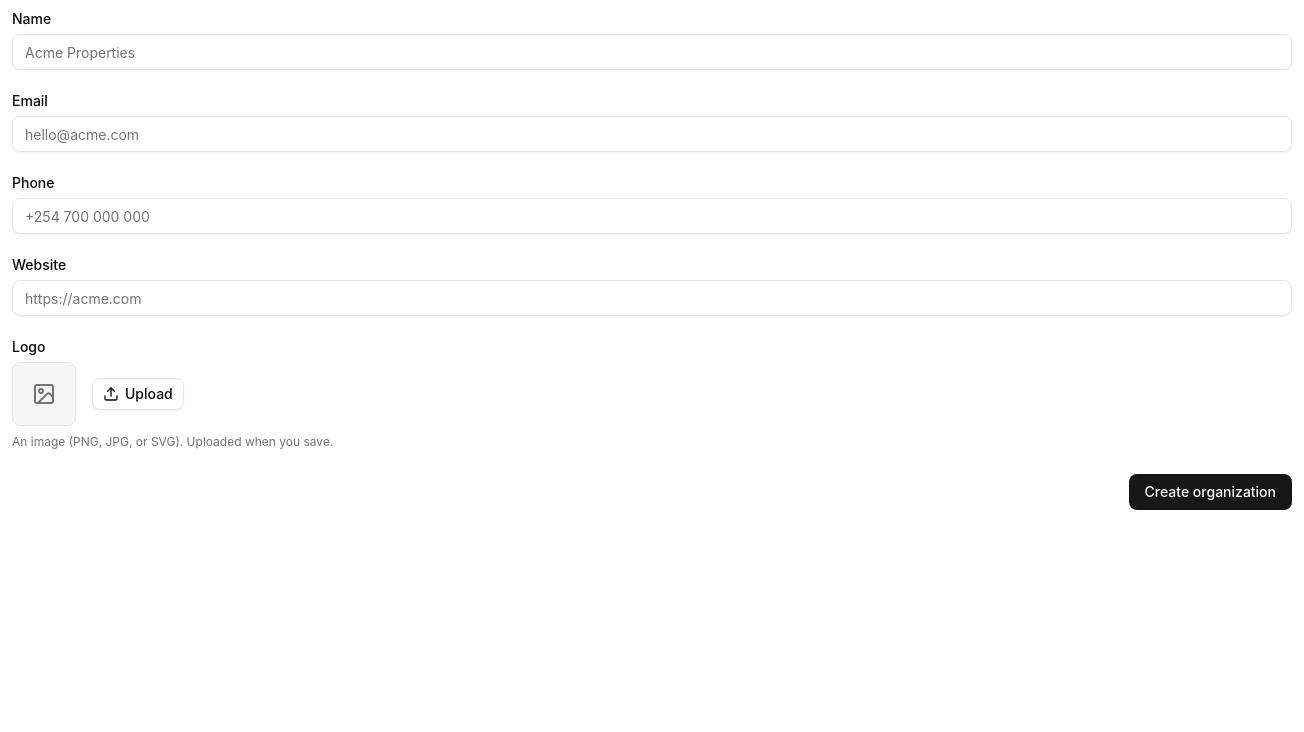
Test: OrganizationForm › blocks submit and shows a validation error for a malformed email
Type "Birchwood Group" into the field labelled "Name".
click(652, 52); type("Birchwood Group")  # box [12, 34, 1292, 70]
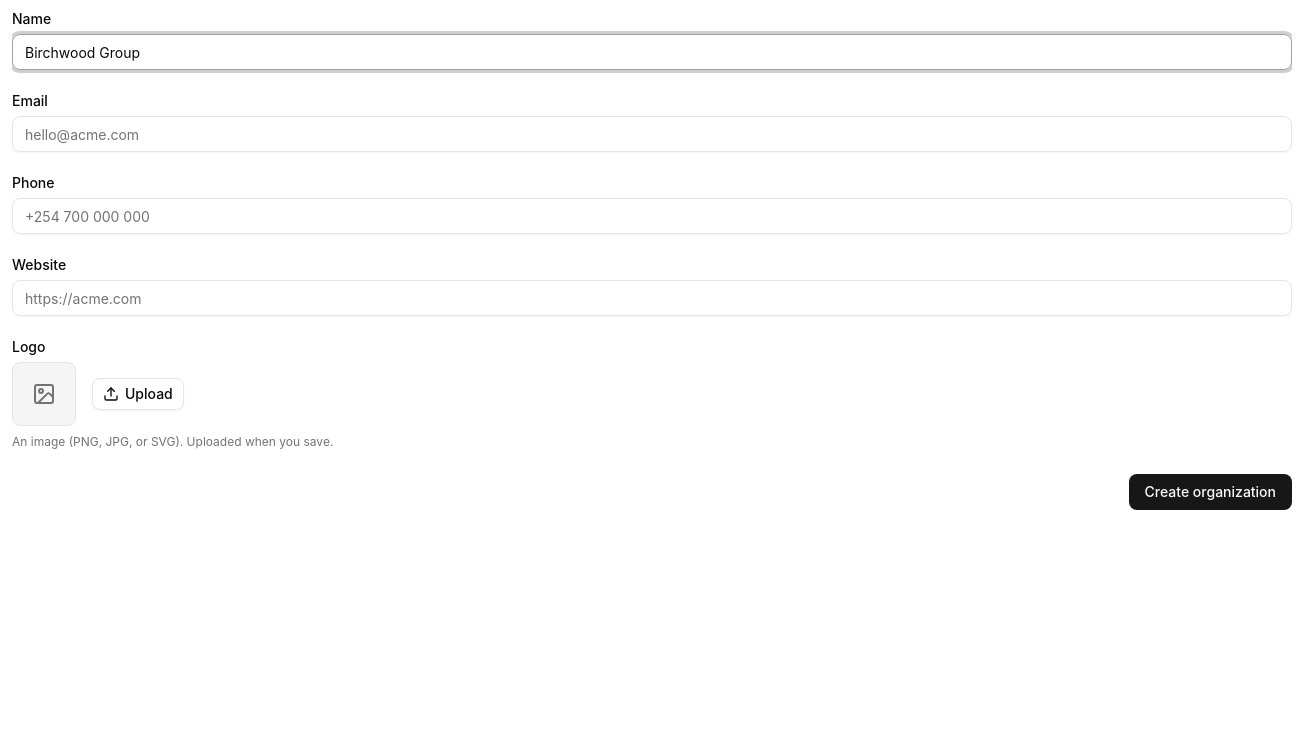
Type "not-an-email" into the field labelled "Email".
click(652, 134); type("not-an-email")  # box [12, 116, 1292, 152]
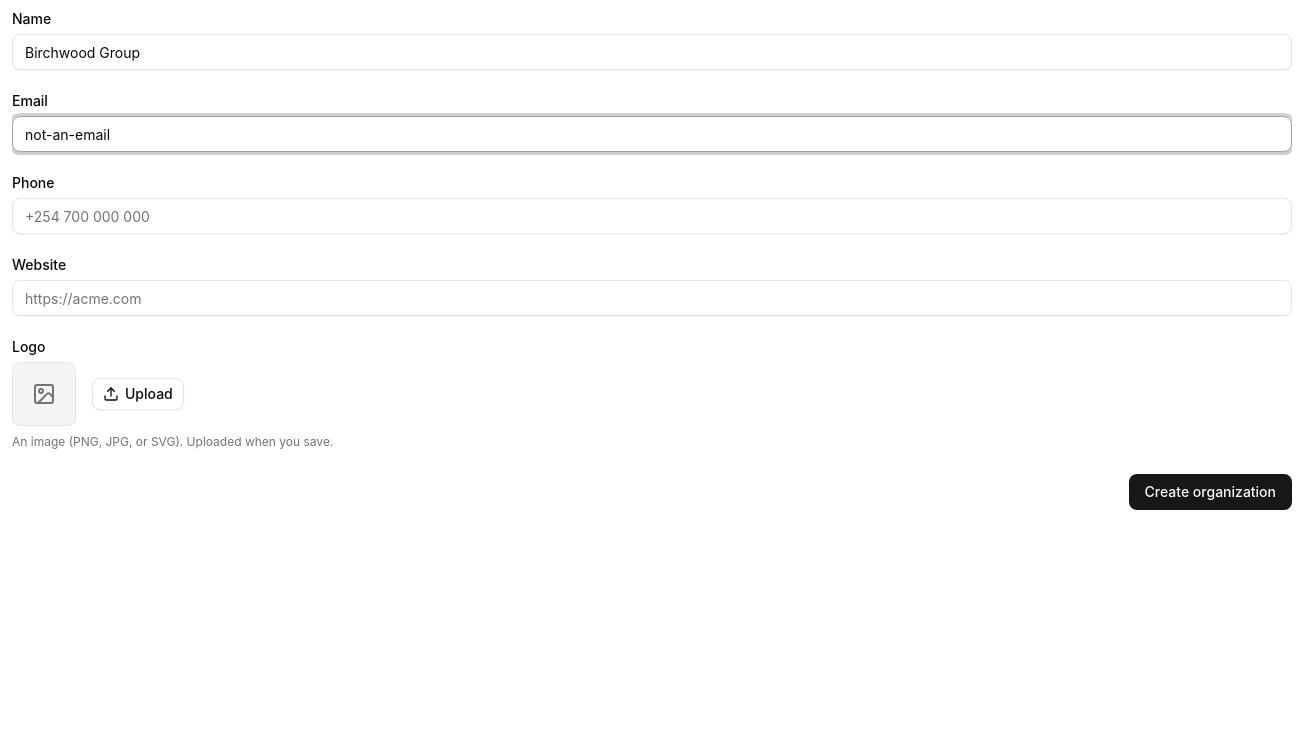
Click the button "Create organization".
click(1210, 492)  # box [1129, 474, 1292, 510]
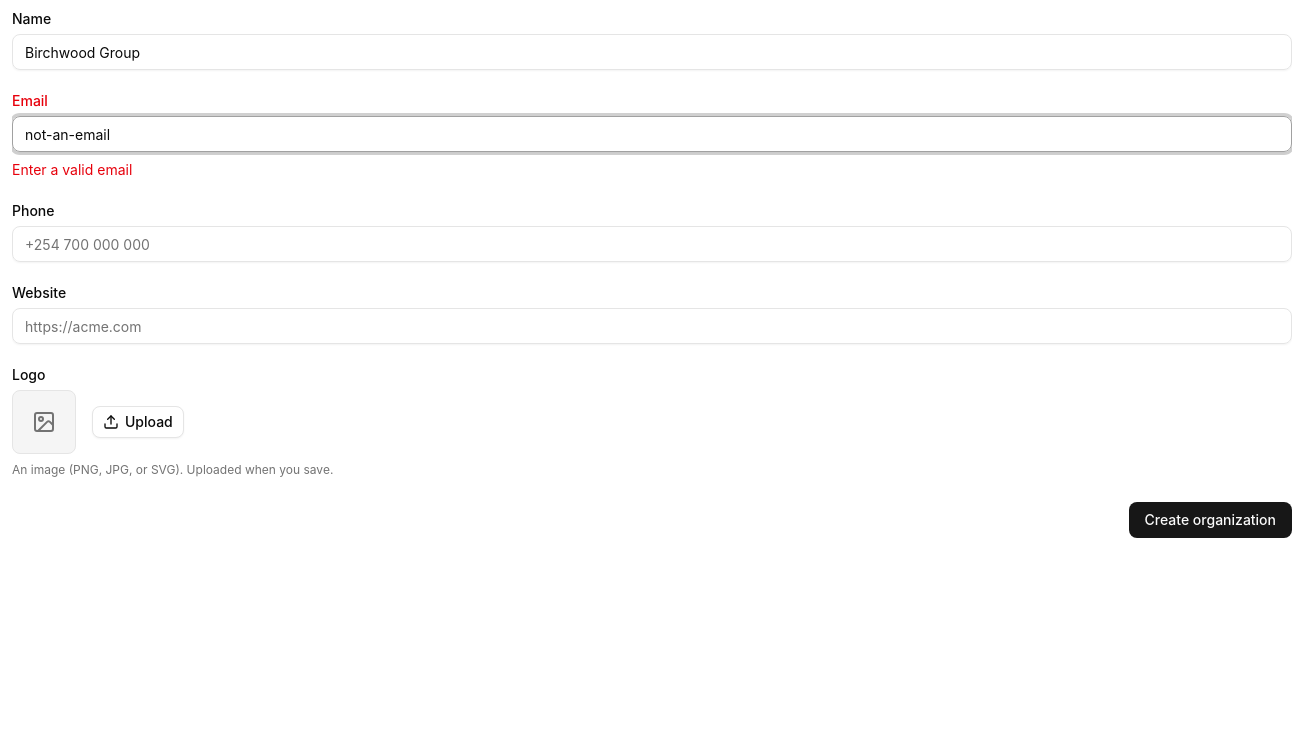
Check: the text "Enter a valid email" is shown, box [12, 161, 132, 178]
